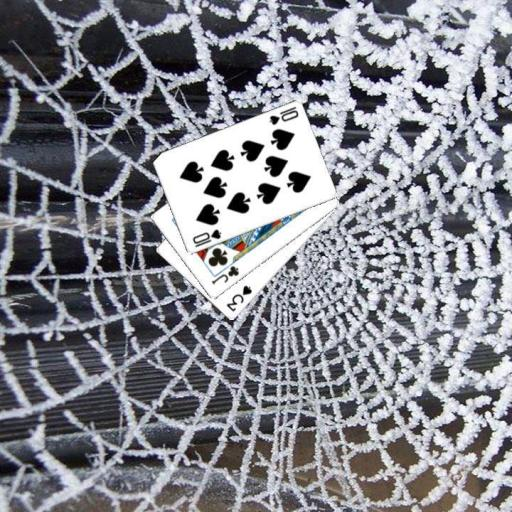card-corner: (223, 282, 253, 313), (189, 226, 223, 249), (208, 262, 240, 286), (266, 104, 300, 126)
